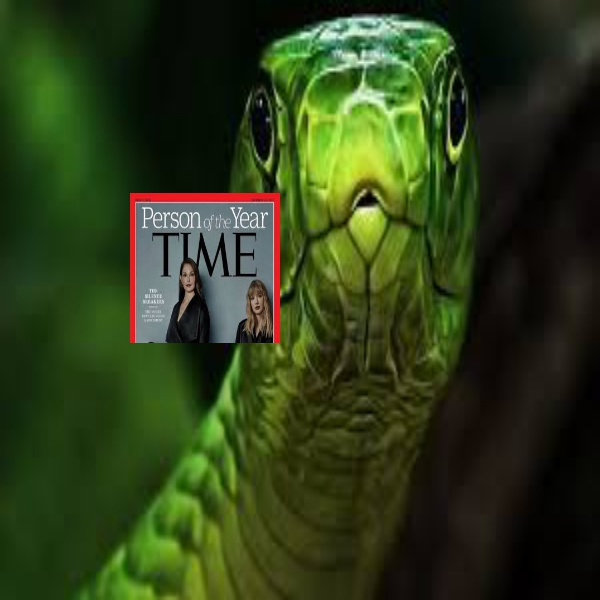time_cover: (120, 185, 283, 345)
